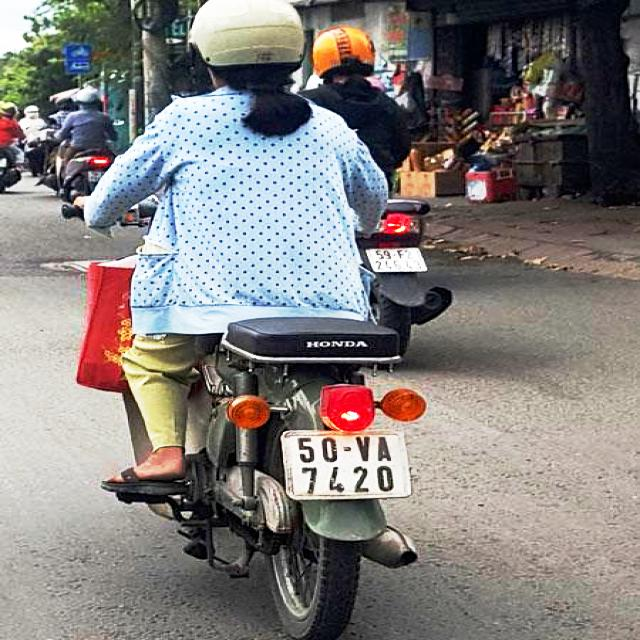license_plate: (286, 430, 409, 500), (367, 246, 427, 273)
